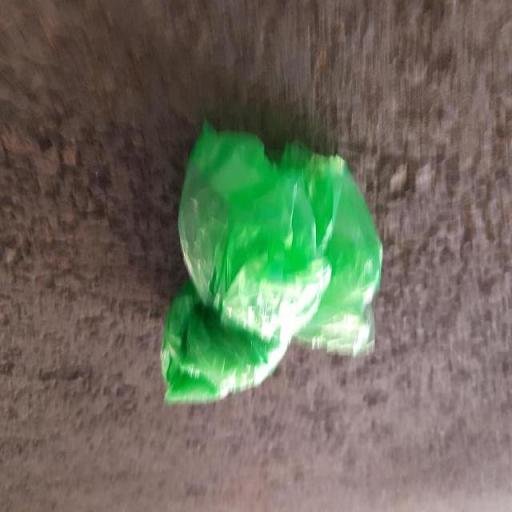plastic-bag: (160, 118, 386, 407)
